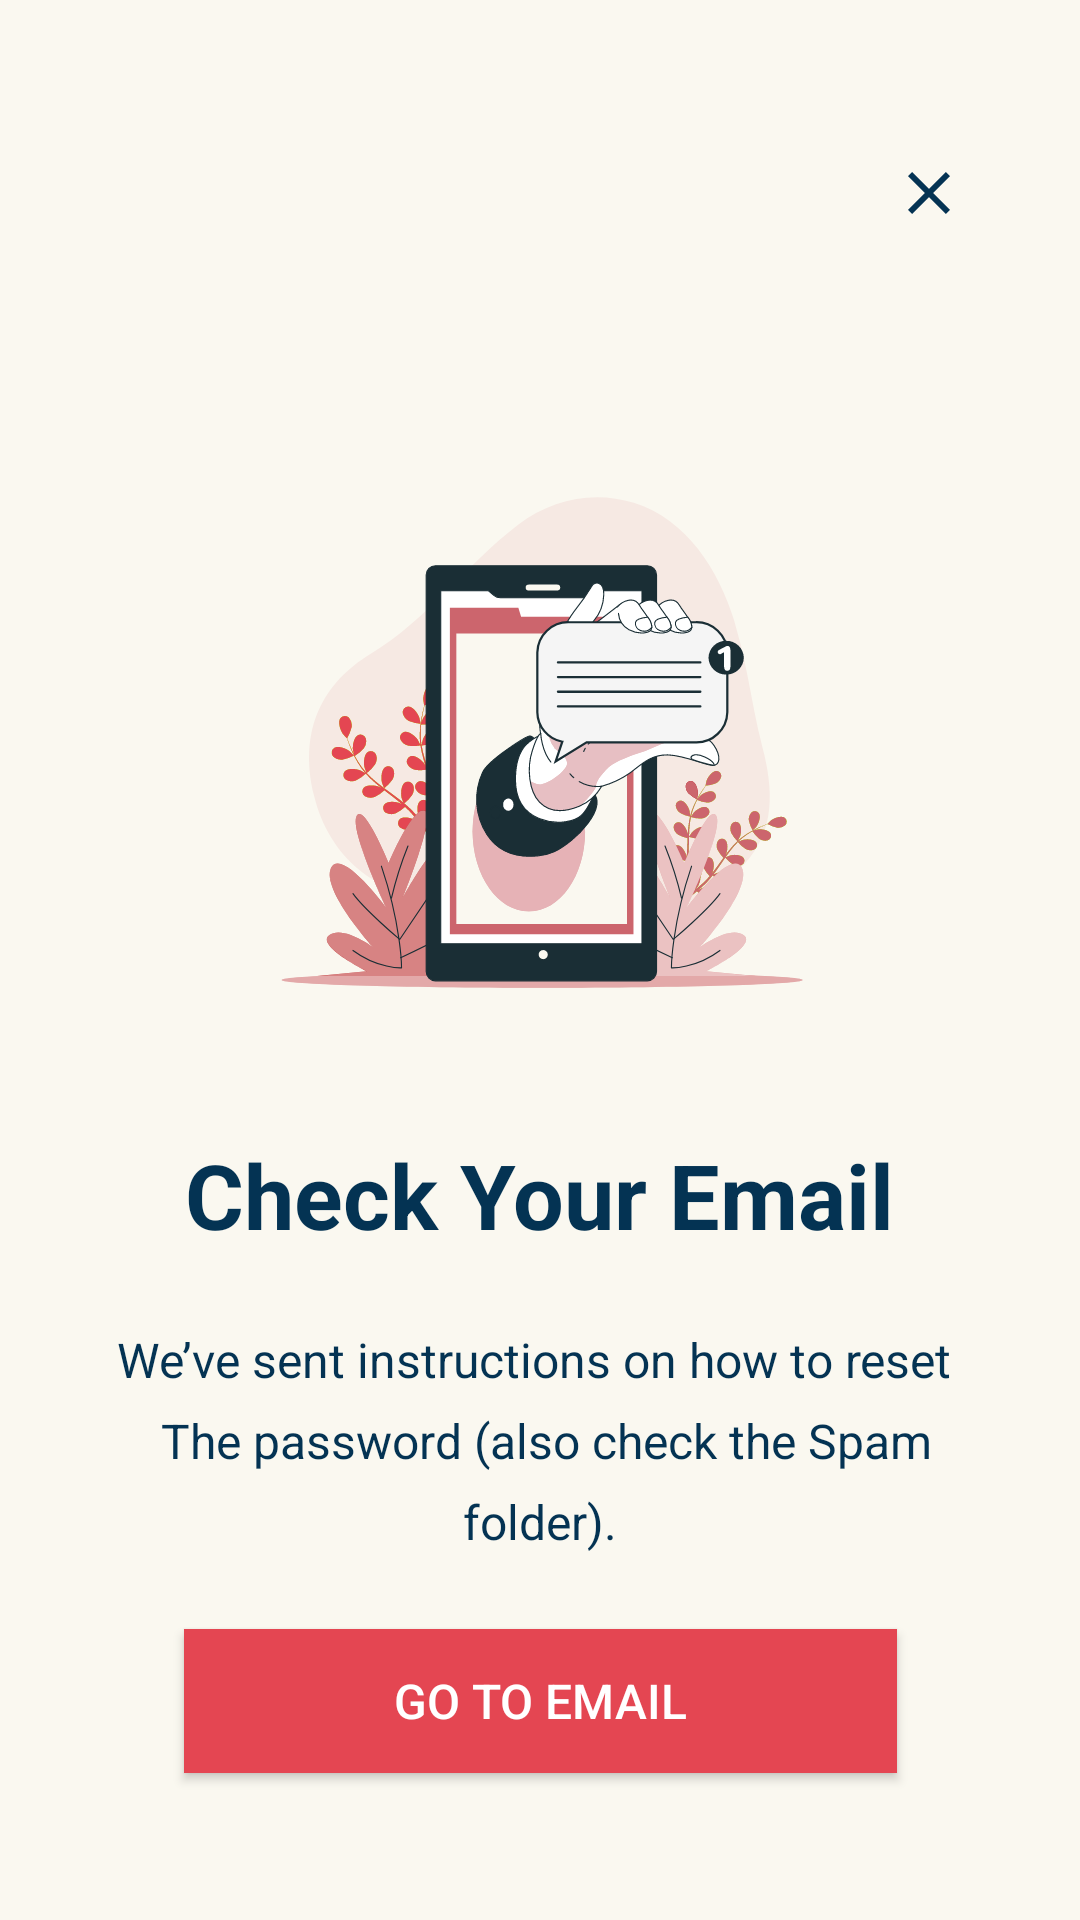

Screen size 1080px x 1920px. Icon name, then its center in pixels as point (x, y):
close: point (929, 193)
